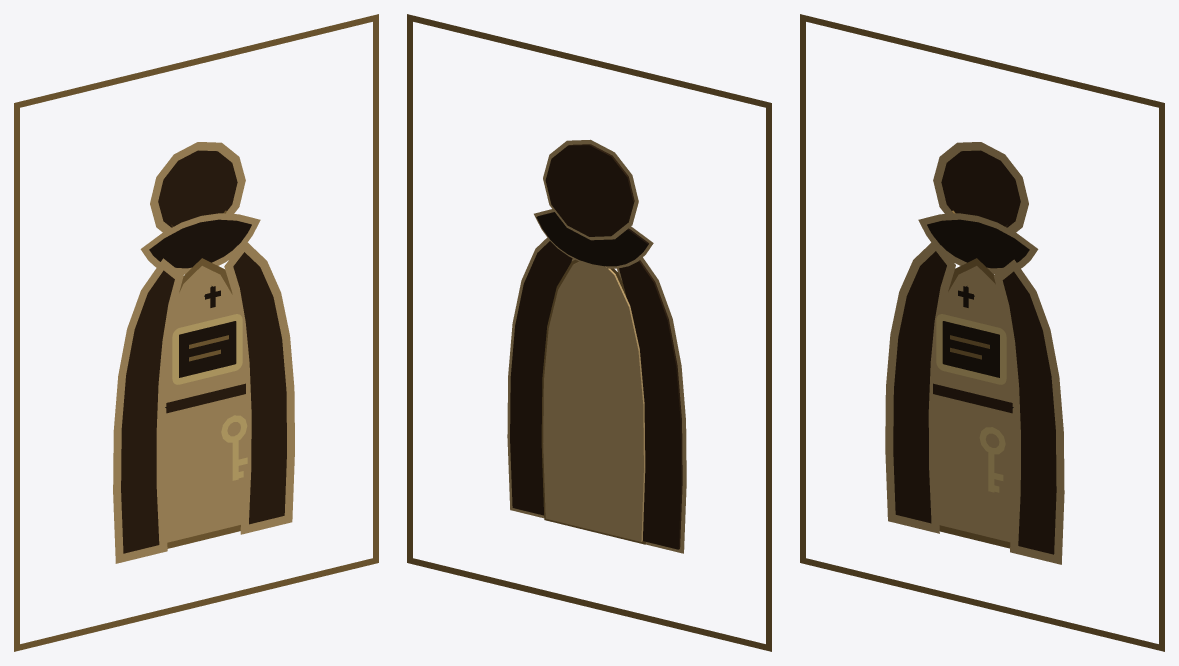
Rendered from npc-brat-unitor.glb.
3 views of the same model, side by side, from view 1: azimuth 30°, elevation 25°; view 2: azimuth 150°, elevation 25°; view 3: azimuth 330°, elevation 25° (orthographic).
Parts seen in each view (by area): view 1: npc-brat-unitor; view 2: npc-brat-unitor; view 3: npc-brat-unitor.
Part boxes in pixels (bbox=[...]): npc-brat-unitor: bbox=[14, 14, 378, 651]; npc-brat-unitor: bbox=[407, 14, 771, 651]; npc-brat-unitor: bbox=[800, 14, 1164, 651].
Bounding box in the file's own units: 1.14 × 1.64 × 0.0904.
